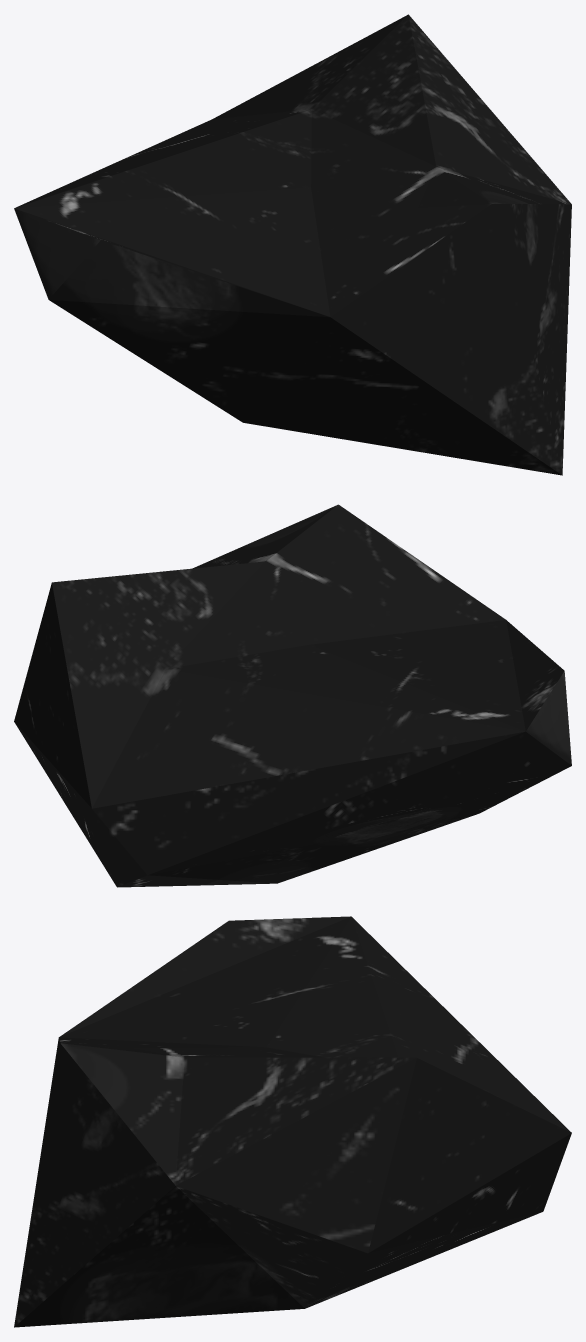
Rendered from Stone_FX.FBX.
The picture shows the model from 3 angles, top to bottom: view 1: azimuth 30°, elevation 25°; view 2: azimuth 150°, elevation 25°; view 3: azimuth 270°, elevation 25°; orthographic projection. The views are drawn at different scales.
Parts seen in each view (by area): view 1: Object007; view 2: Object007; view 3: Object007.
Part boxes in pixels (box(x1,y1,x2,y2)): Object007: box(14, 14, 571, 475); Object007: box(14, 504, 571, 887); Object007: box(14, 916, 571, 1327).
Size of the model in its own units: 0.9971 by 0.5876 by 0.9897.
